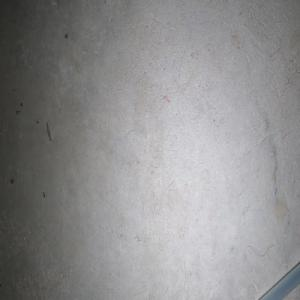Pen: (259, 262, 300, 300)
